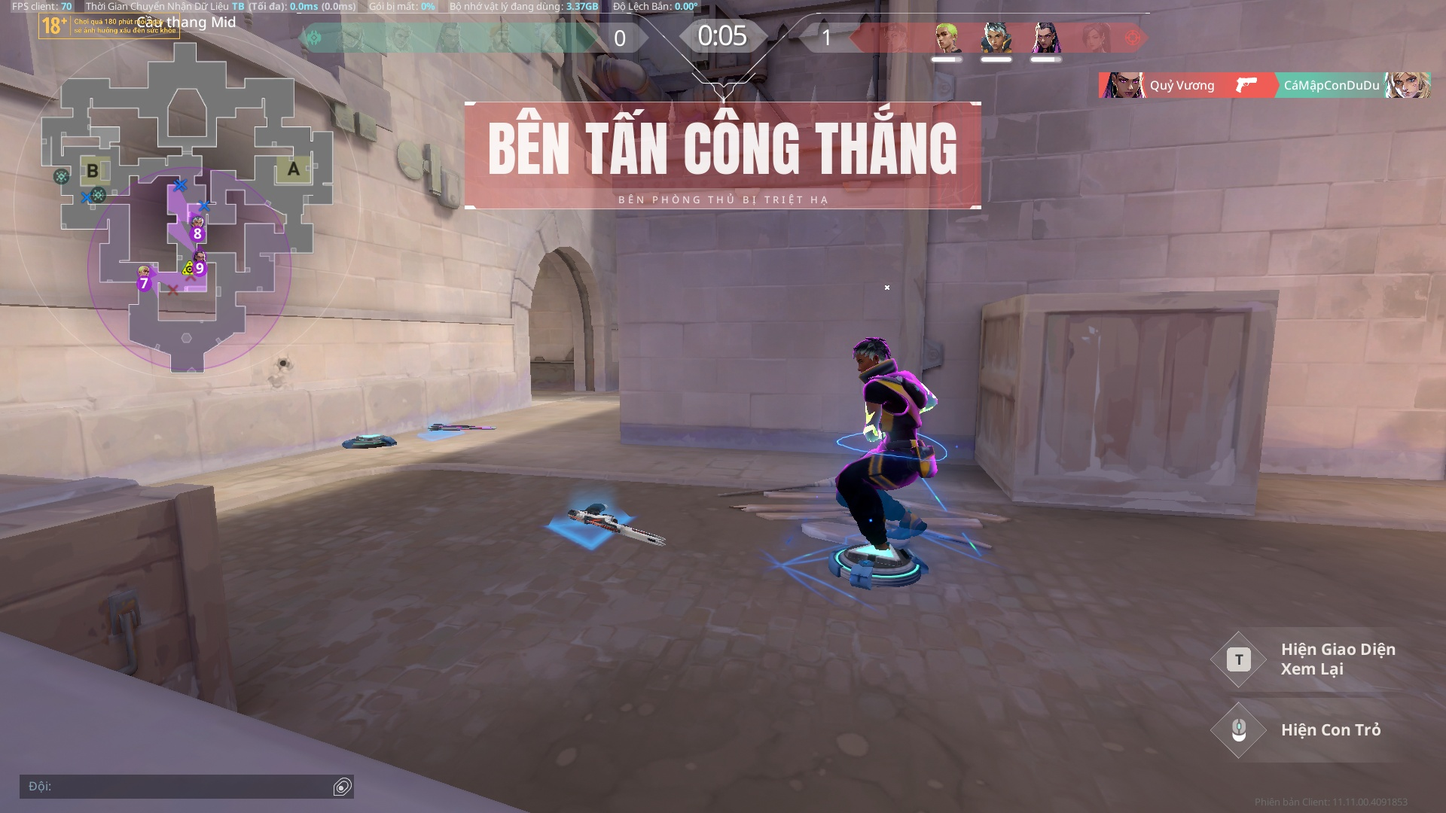body: (848, 363, 934, 441)
head: (848, 339, 894, 376)
